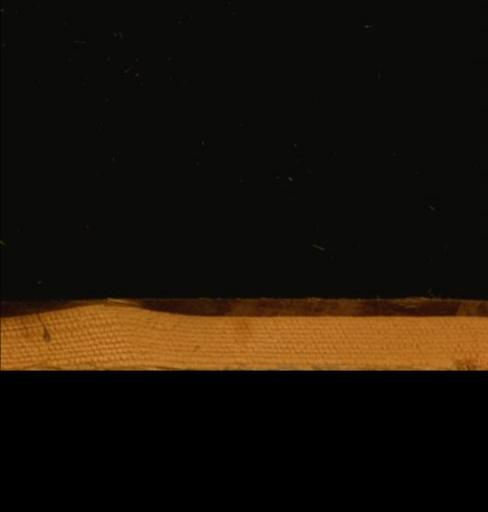wave: (0, 289, 485, 319)
